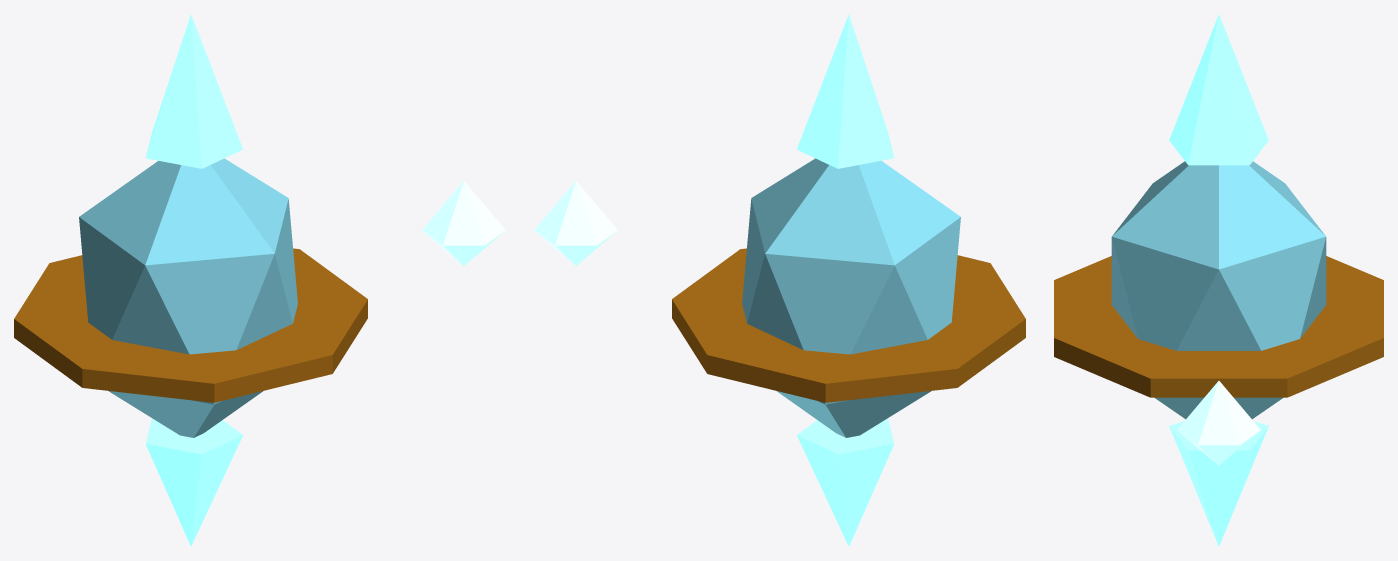
The model's file is Mascote_LumeGuardiao.fbx.
The picture shows the model from 3 angles, left to right: view 1: azimuth 30°, elevation 25°; view 2: azimuth 150°, elevation 25°; view 3: azimuth 270°, elevation 25°; orthographic projection.
Parts seen in each view (by area): view 1: Body, Orb0; view 2: Body, Orb0; view 3: Body, Orb0.
Part boxes in pixels (x1,y1,x2,y2): Body: (14, 14, 367, 546); Orb0: (422, 181, 505, 265); Body: (672, 14, 1025, 546); Orb0: (534, 181, 617, 265); Body: (1054, 14, 1383, 546); Orb0: (1177, 381, 1260, 465).
Bounding box in the file's own units: 0.4917 × 0.56 × 0.3141.
